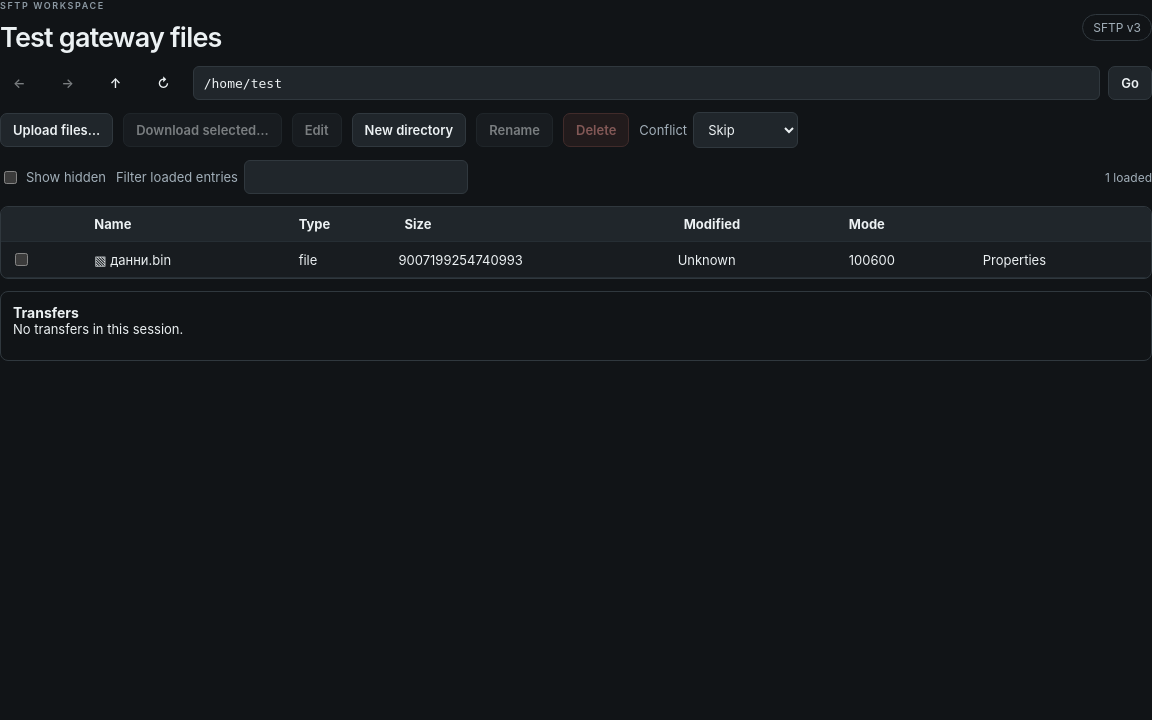
Files workspace boundaries › drops a visible old approval when the connected SSH identity changes
Check: the field showing "/home/test" is shown, box [193,66,1100,100]
Step 1. Click the button "Upload files…" → x=57, y=130, box [0,113,113,147]
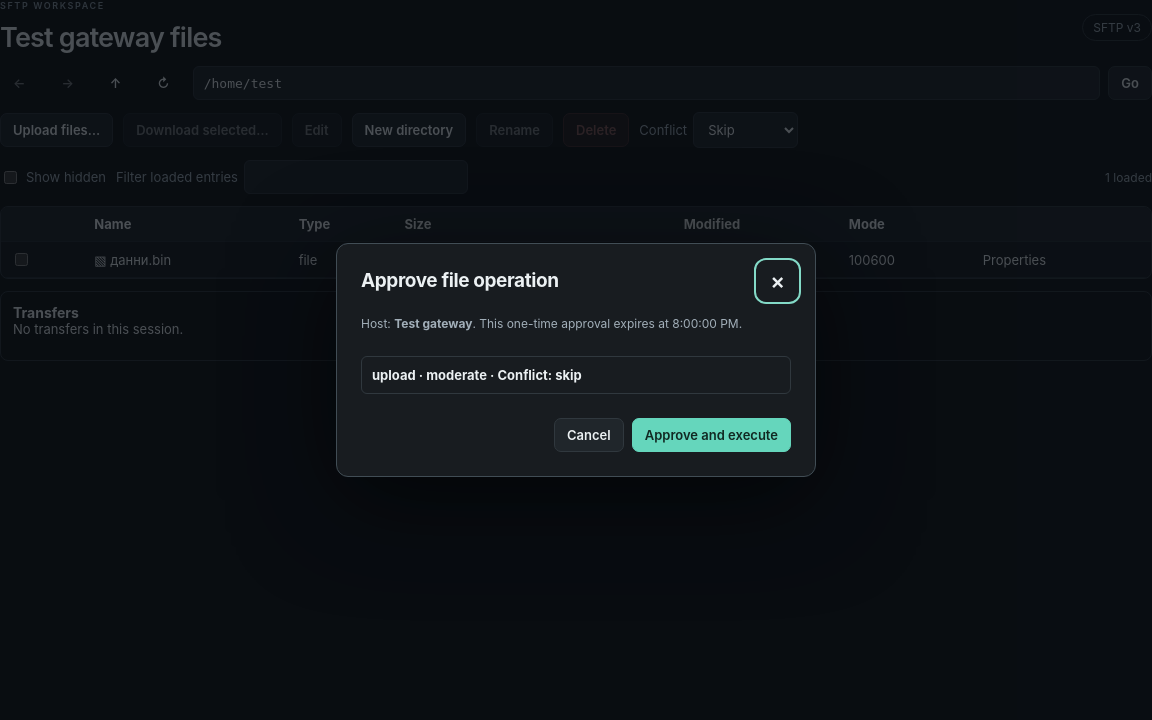
Check: the dialog "Approve file operation" is shown, box [336,242,816,478]
